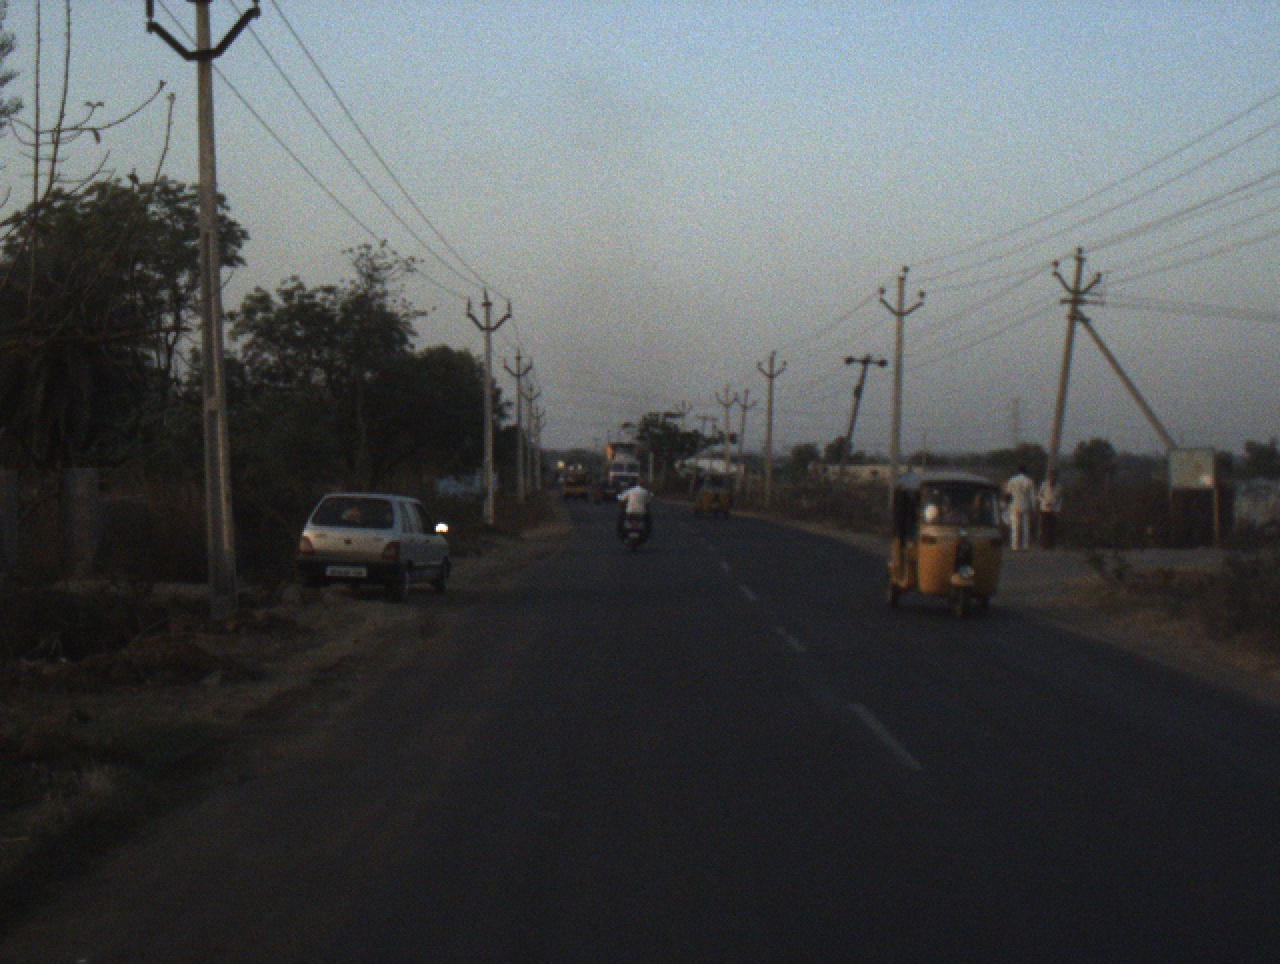autorickshaw: (879, 471, 1013, 620), (693, 469, 737, 517), (556, 457, 590, 505)
car: (289, 483, 461, 602)
motorcycle: (615, 510, 656, 551)
person: (1002, 461, 1037, 556), (1040, 463, 1064, 551), (593, 475, 603, 505)
rider: (610, 480, 651, 542)
truck: (603, 435, 646, 499)
